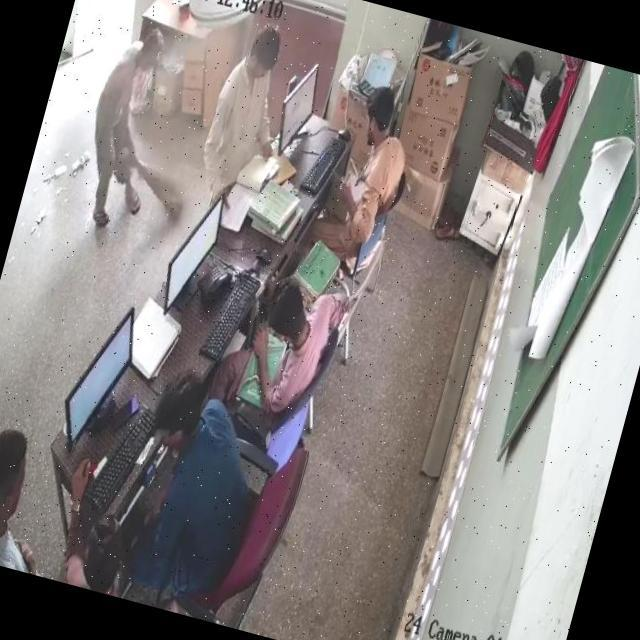person: (105, 358, 269, 593), (184, 24, 285, 233), (78, 16, 164, 228), (231, 278, 342, 419), (326, 83, 418, 250), (42, 496, 154, 602), (0, 443, 55, 572)
